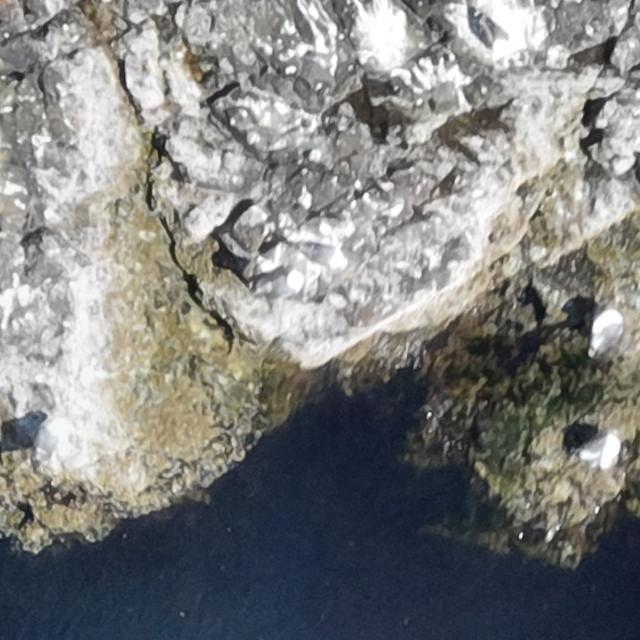umineko: (468, 2, 514, 58), (28, 420, 68, 465), (257, 266, 305, 295), (591, 300, 620, 346)
